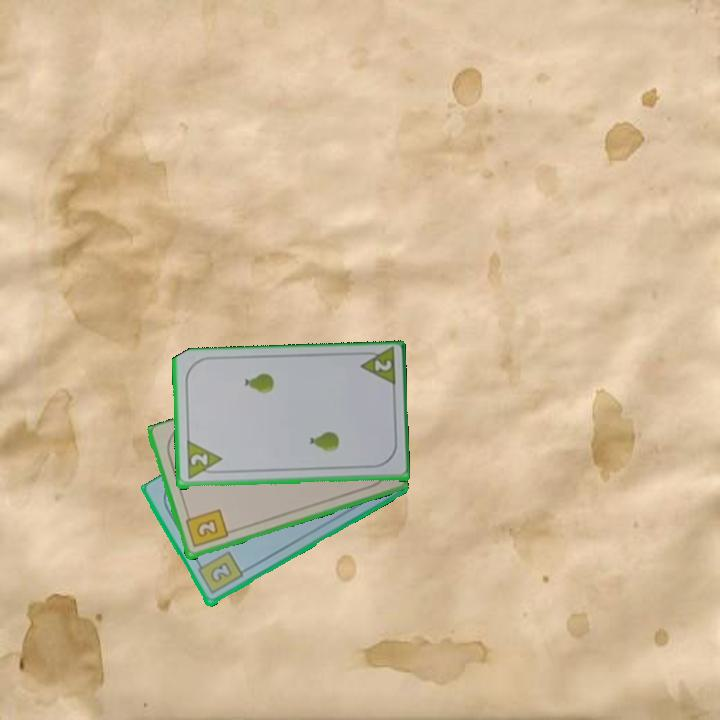2b: (193, 548, 246, 597), (182, 506, 230, 550)
2p: (355, 346, 398, 391), (183, 439, 224, 483)
